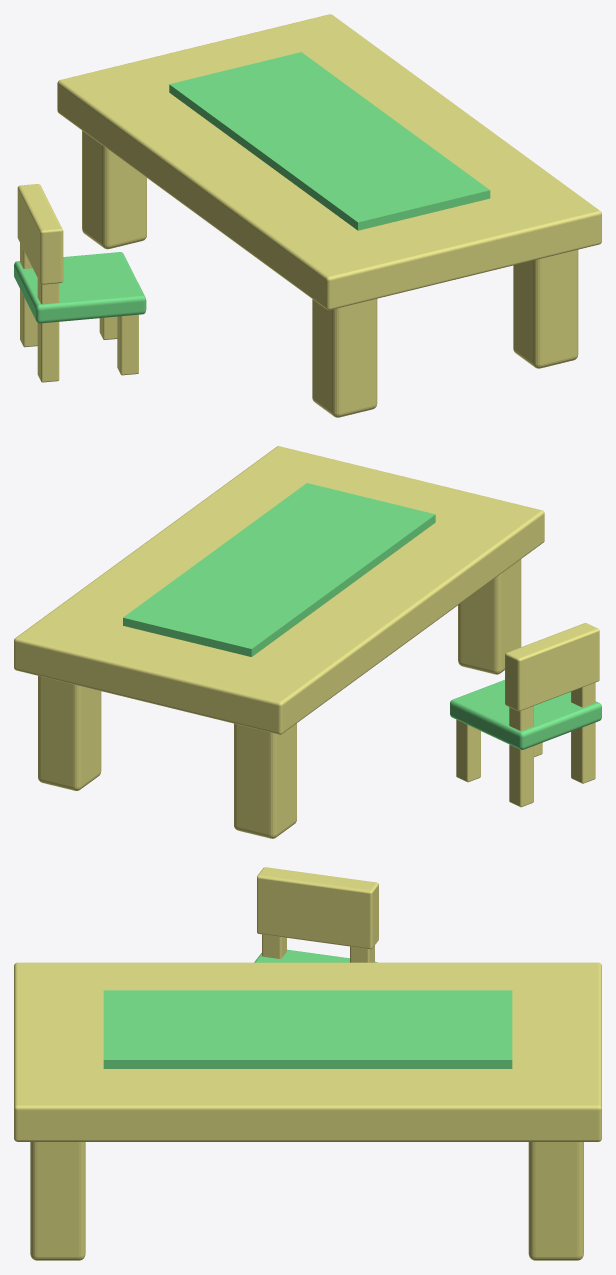
Rendered from desk&chair.fbx.
The picture shows the model from 3 angles, top to bottom: view 1: azimuth 30°, elevation 25°; view 2: azimuth 150°, elevation 25°; view 3: azimuth 270°, elevation 25°; orthographic projection. The views are drawn at different scales.
Visible parts, largest first — view 1: Cube, Cube.006; view 2: Cube, Cube.006; view 3: Cube, Cube.006.
Part boxes in pixels (bbox=[...]): Cube: bbox=[57, 14, 601, 417]; Cube.006: bbox=[14, 184, 146, 382]; Cube: bbox=[14, 446, 544, 838]; Cube.006: bbox=[450, 623, 601, 807]; Cube: bbox=[14, 962, 601, 1260]; Cube.006: bbox=[254, 867, 378, 962].
Size of the model in its own units: 327 by 111 by 342.
